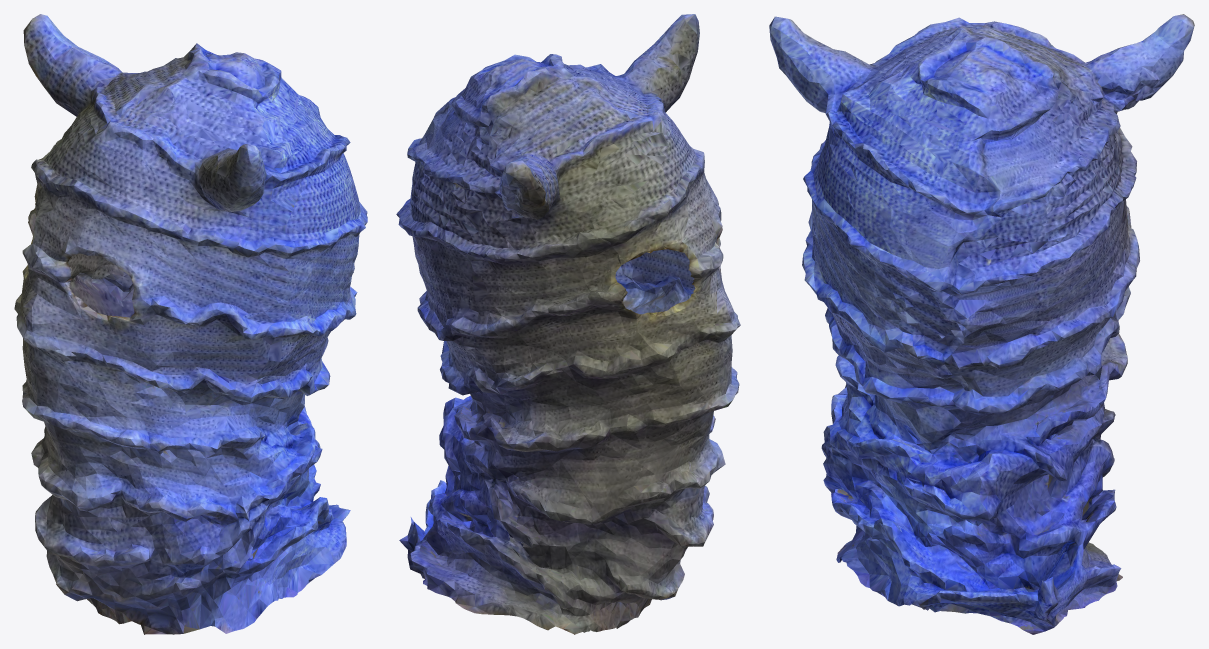
The model's file is Sweet.gltf.
3 renders of one model, left to right at view 1: azimuth 30°, elevation 25°; view 2: azimuth 150°, elevation 25°; view 3: azimuth 270°, elevation 25°, orthographic. The views are drawn at different scales.
Parts seen in each view (by area): view 1: mesh.012; view 2: mesh.012; view 3: mesh.012.
Part boxes in pixels (bbox=[...]): mesh.012: bbox=[14, 14, 367, 634]; mesh.012: bbox=[396, 14, 740, 634]; mesh.012: bbox=[769, 14, 1194, 634].
Bounding box in the file's own units: 0.2009 × 0.3156 × 0.2151.
Materials: 1 (1 with a texture image).
